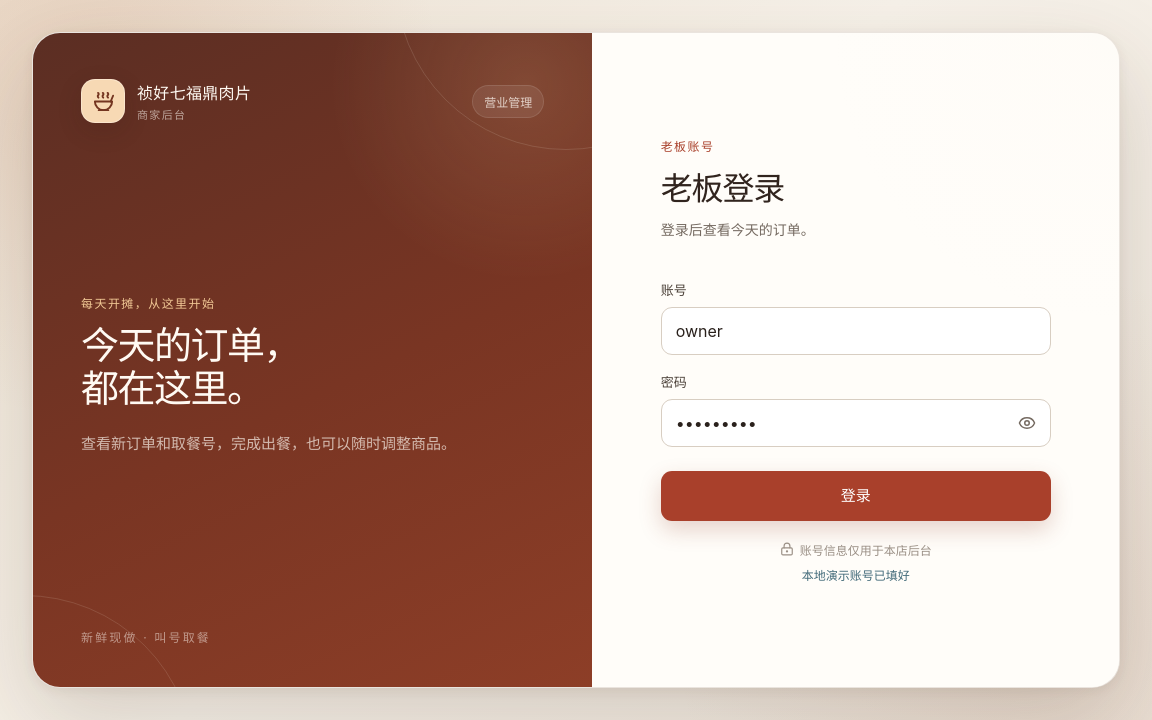
Test: merchant V2 app › keeps the latest member search when responses finish out of order
Click the button "登录". click: (856, 496)
box: [661,470,1051,520]
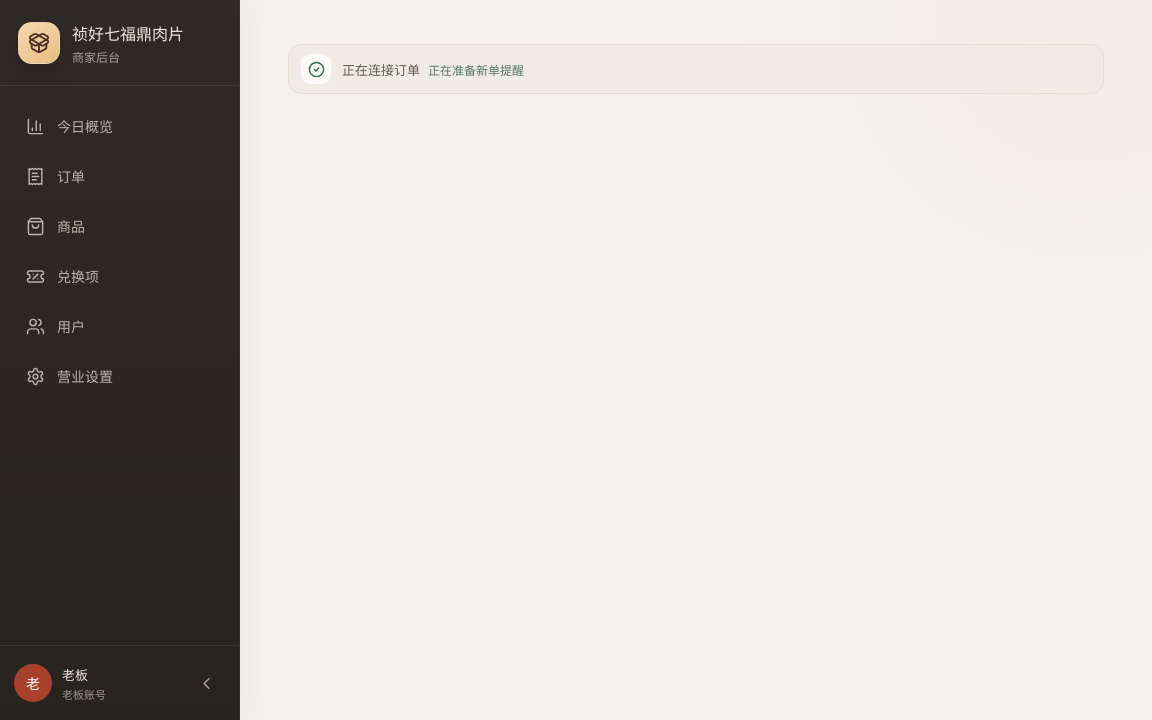
Click the link "用户". click: (56, 326)
box: [26,316,85,336]
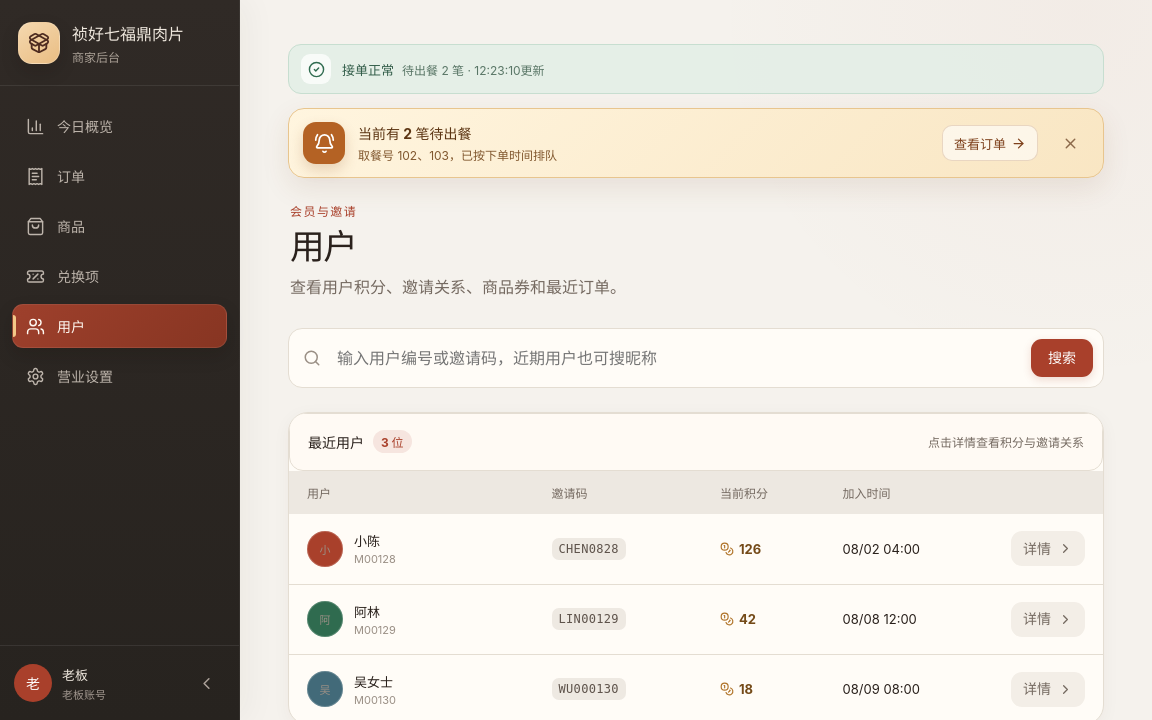
Now the text "M00128" is shown, box [354,552,396,566]
Type "小陈" into the field named "搜索用户". click: (676, 358)
box: [331,338,1021,376]
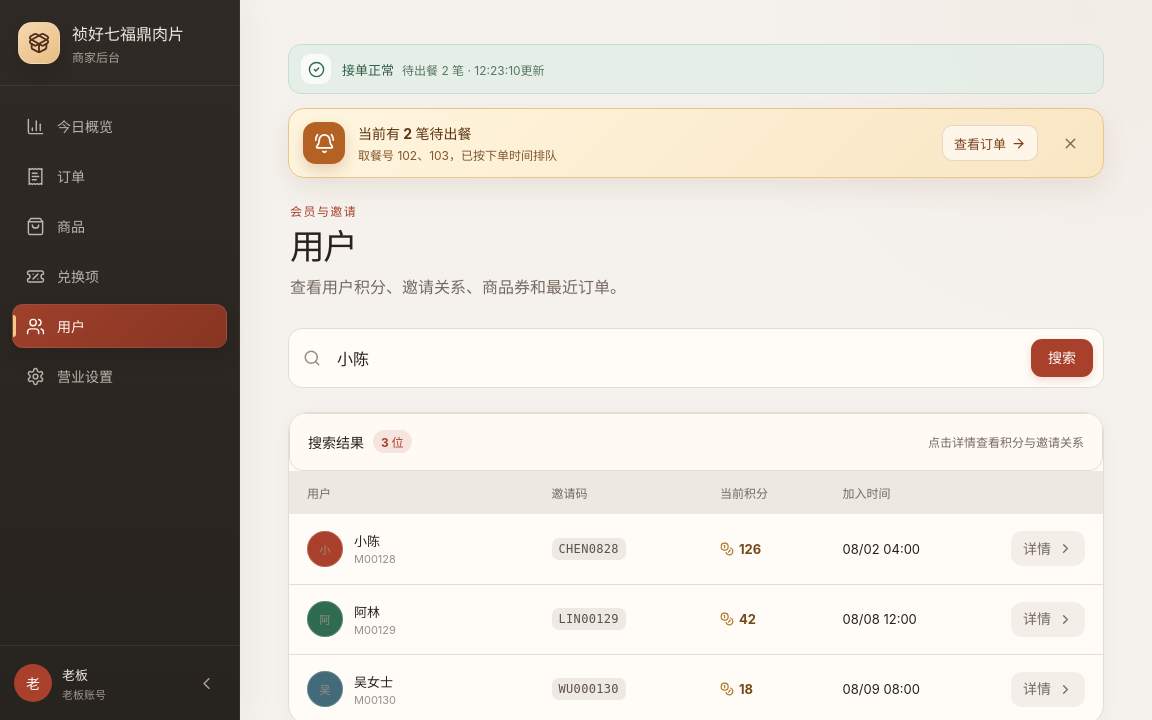
Submit the form, box [288,328,1104,388]
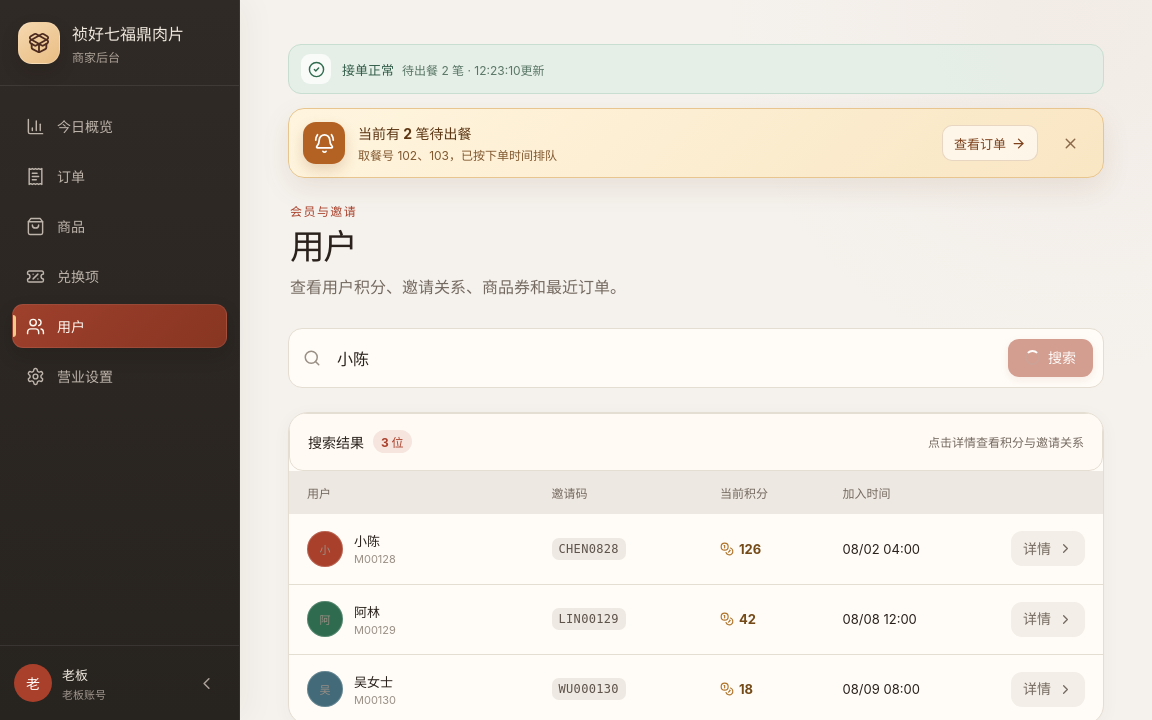
Replace the text in the field named "搜索用户" with "阿林". click: (664, 358)
box: [331,338,998,376]
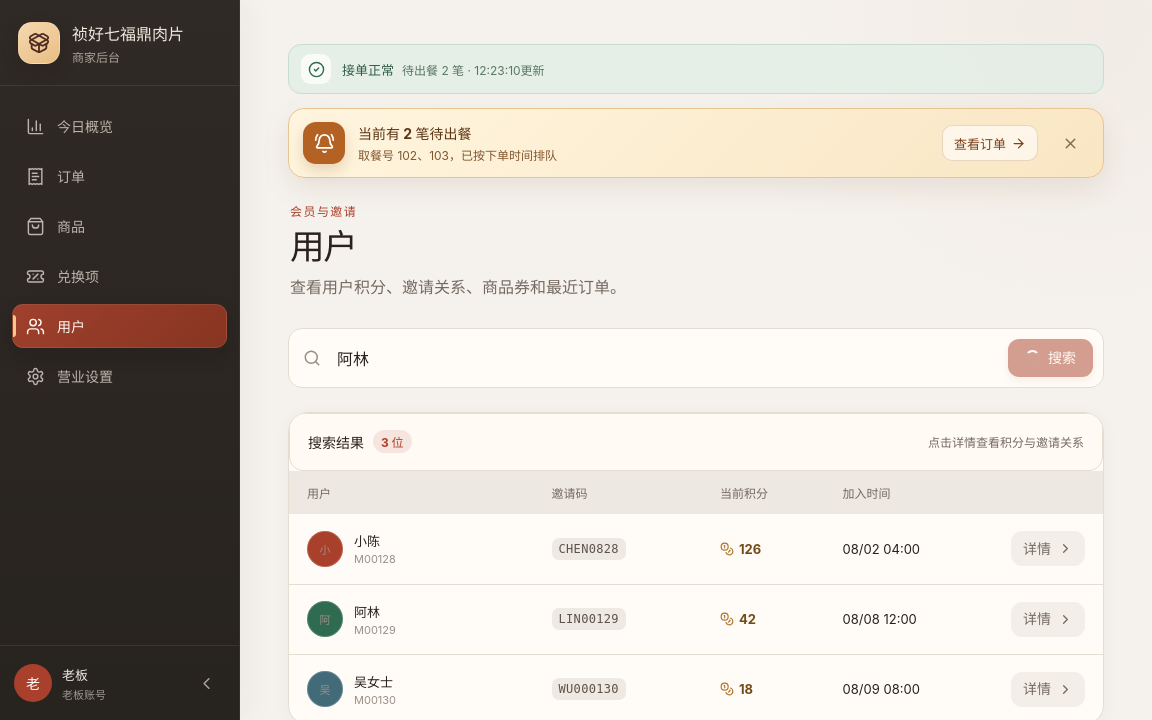
Submit the form, box [288,328,1104,388]
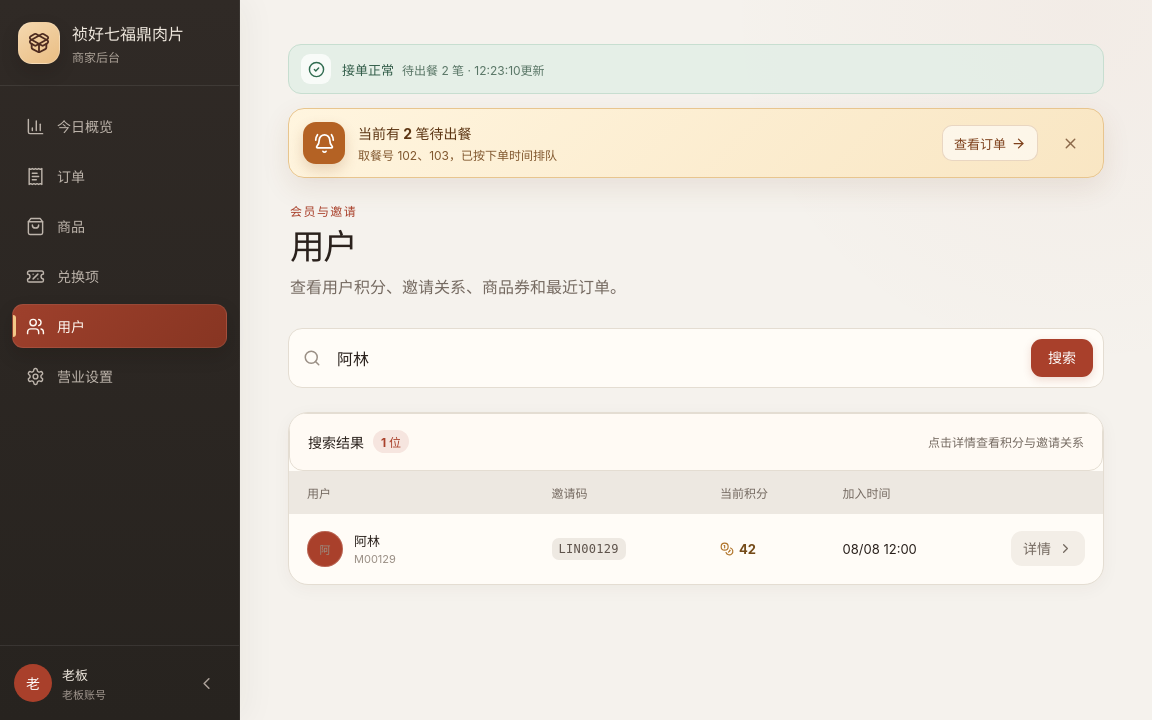
Now the text "M00129" is shown, box [354,552,396,566]
Now the element with class "member-list" shows "阿林", box [354,533,380,549]
Now the element with class "member-list" no longer shows "小陈", box [288,412,1104,584]
